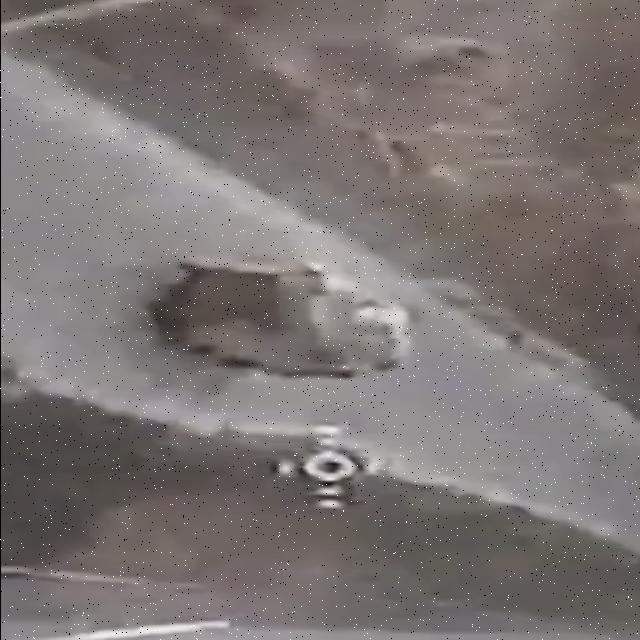CAR: (160, 264, 416, 384)
